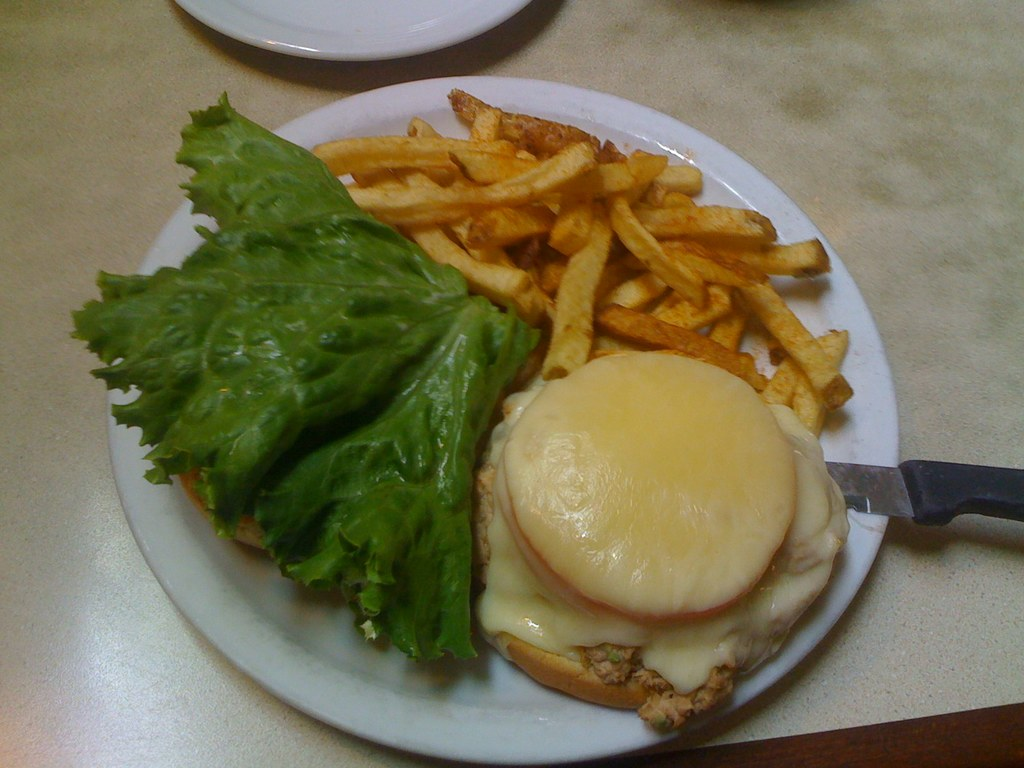French fries: (324, 82, 852, 433)
